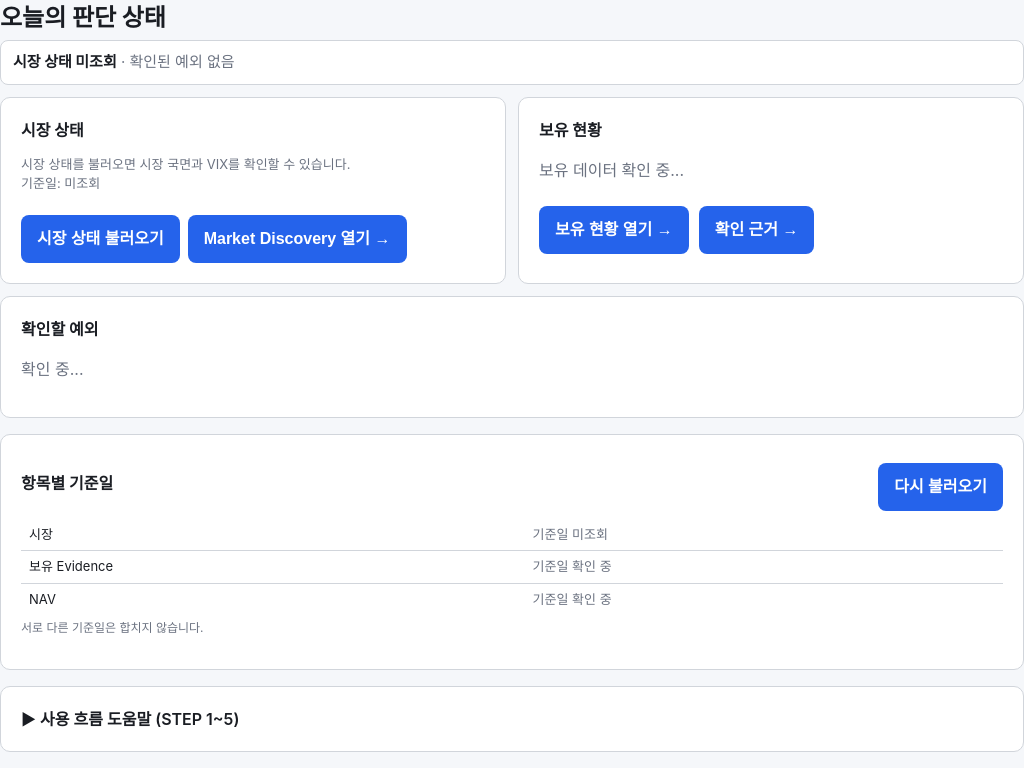
Scenario: DashboardView — VIX 최신성 (POC5-12) › 판정 필드 없음: 'VIX 기준일 확인 필요' · 카드 '⚠ 기준일 확인 필요'
The width and height of the screenshot is (1024, 768).
Step 1. Click the button "시장 상태 불러오기" → click(100, 238), box left=21, top=214, right=180, bottom=262
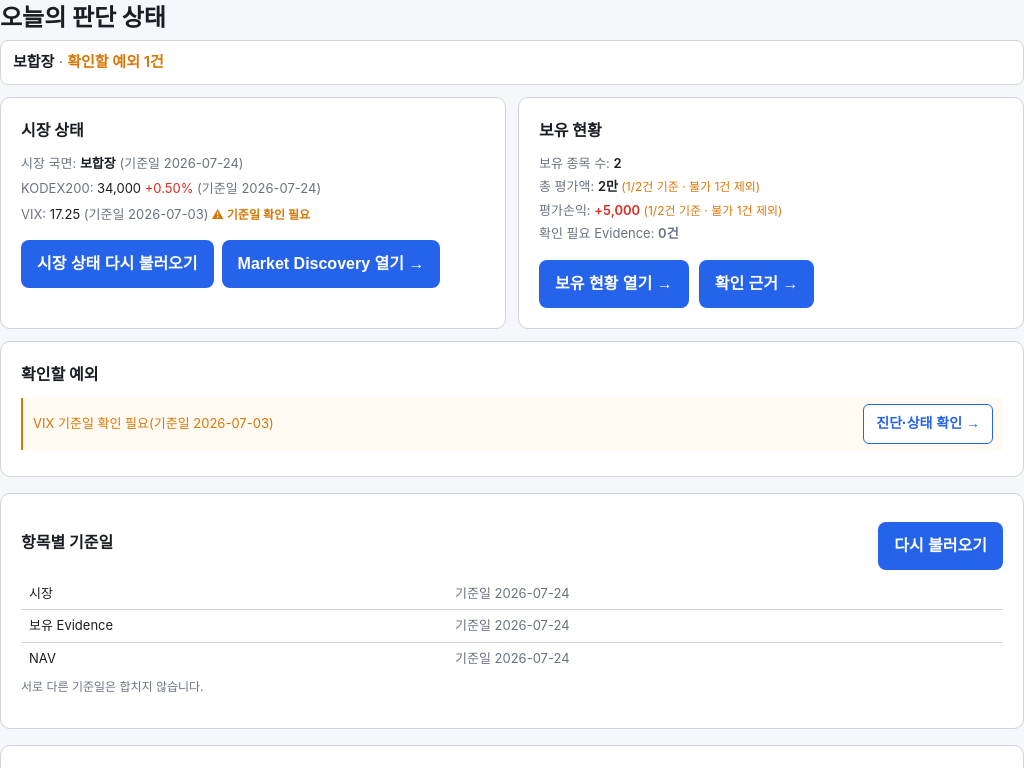
Result: the text "VIX 기준일 확인 필요(기준일 2026-07-03)" is shown at left=33, top=414, right=274, bottom=433
Result: the text "시장 상태" shows "⚠ 기준일 확인 필요" at left=0, top=96, right=506, bottom=328
